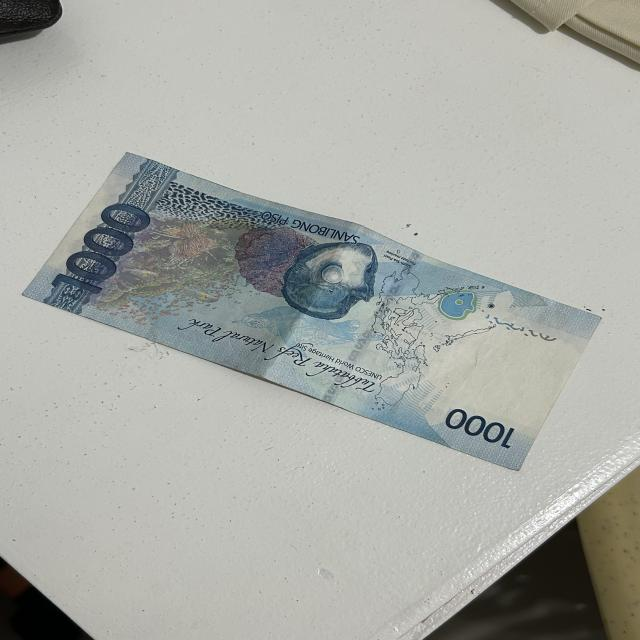1000_pearl: (288, 238, 369, 317)
1000_pearl_watermark: (438, 290, 476, 322)
